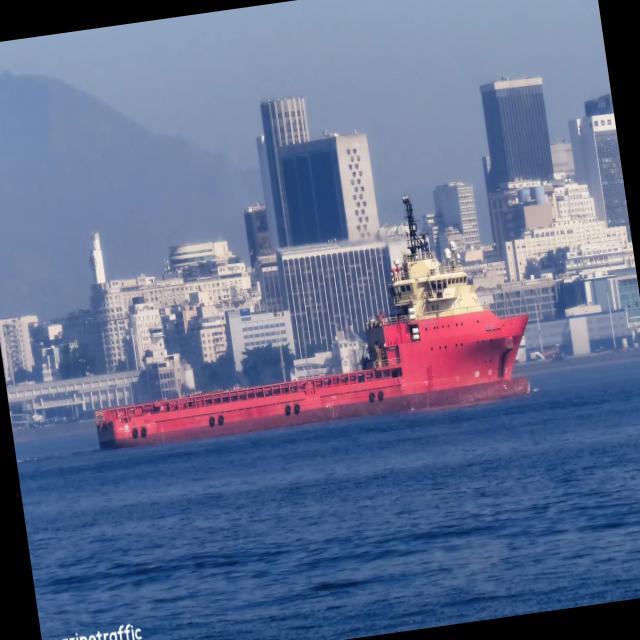Offshore: (95, 197, 529, 446)
